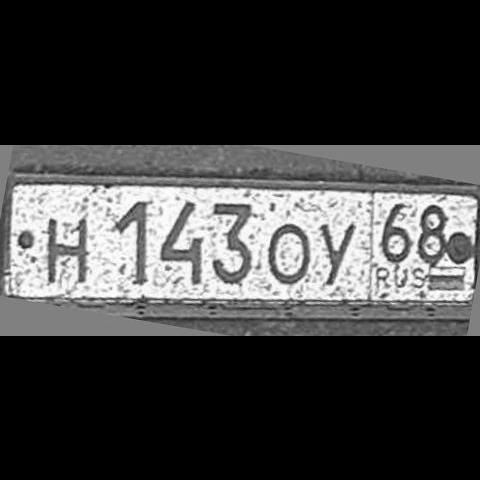license-plateSW: (4, 180, 477, 303)
